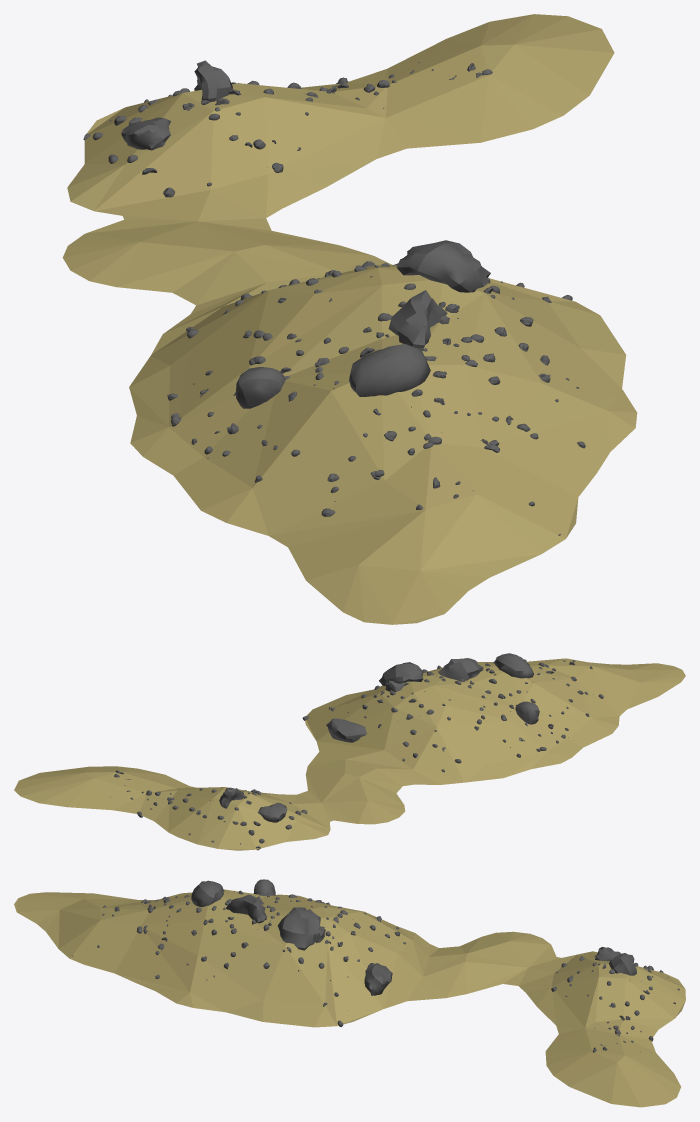
File: Island-4.fbx
The picture shows the model from 3 angles, top to bottom: view 1: azimuth 30°, elevation 25°; view 2: azimuth 150°, elevation 25°; view 3: azimuth 270°, elevation 25°; orthographic projection. The views are drawn at different scales.
Parts seen in each view (by area): view 1: Island-4, Foolige-4; view 2: Island-4, Foolige-4; view 3: Island-4, Foolige-4.
Boxes of the visible parts, x1=… form: Island-4: x1=62, y1=14, x2=637, y2=624; Foolige-4: x1=83, y1=60, x2=585, y2=535; Island-4: x1=14, y1=658, x2=685, y2=850; Foolige-4: x1=110, y1=653, x2=603, y2=850; Island-4: x1=14, y1=889, x2=685, y2=1107; Foolige-4: x1=71, y1=879, x2=679, y2=1052.
Bounding box in the file's own units: 11237 × 1741 × 14771.
